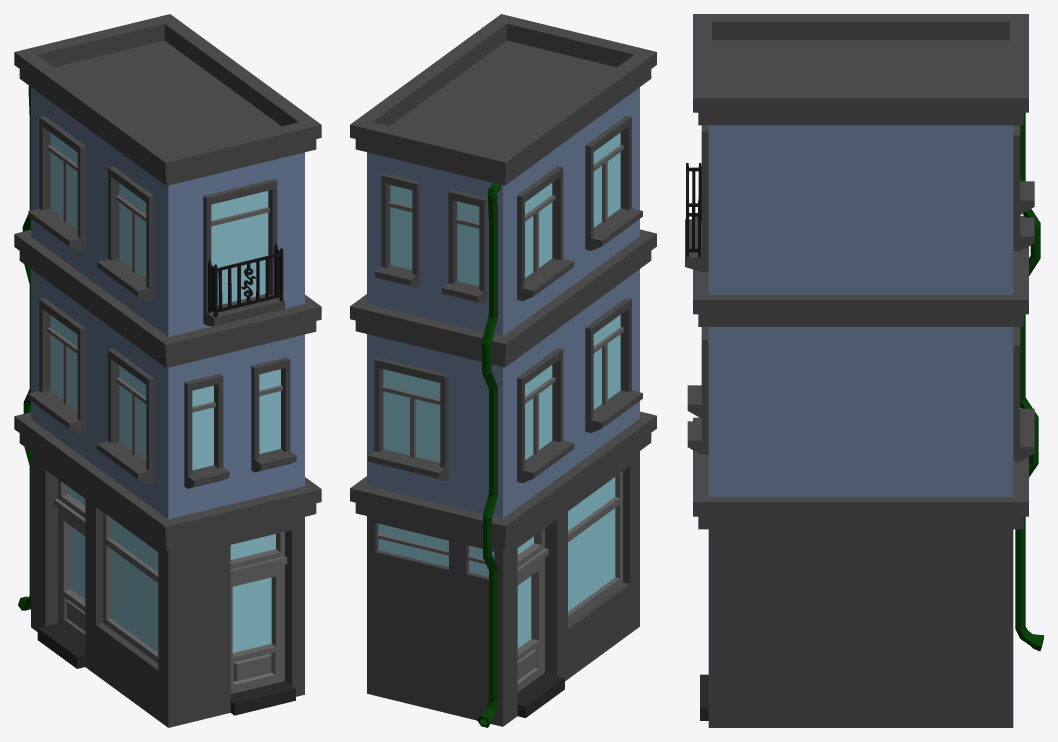
The model's file is BigApartment.fbx.
3 views of the same model, side by side, from view 1: azimuth 30°, elevation 25°; view 2: azimuth 150°, elevation 25°; view 3: azimuth 270°, elevation 25° (orthographic). The views are drawn at different scales.
Visible parts, largest first — view 1: Cube.190; view 2: Cube.190; view 3: Cube.190.
Boxes of the visible parts, box(x1,y1,x2,y2) form: Cube.190: box(14, 14, 321, 727); Cube.190: box(350, 14, 656, 727); Cube.190: box(685, 14, 1043, 727).
Size of the model in its own units: 267 by 896 by 459.
